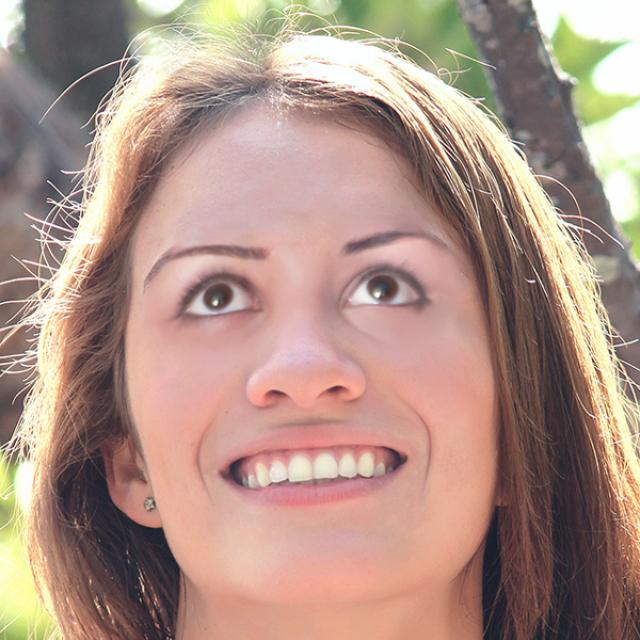face: (65, 117, 567, 616)
